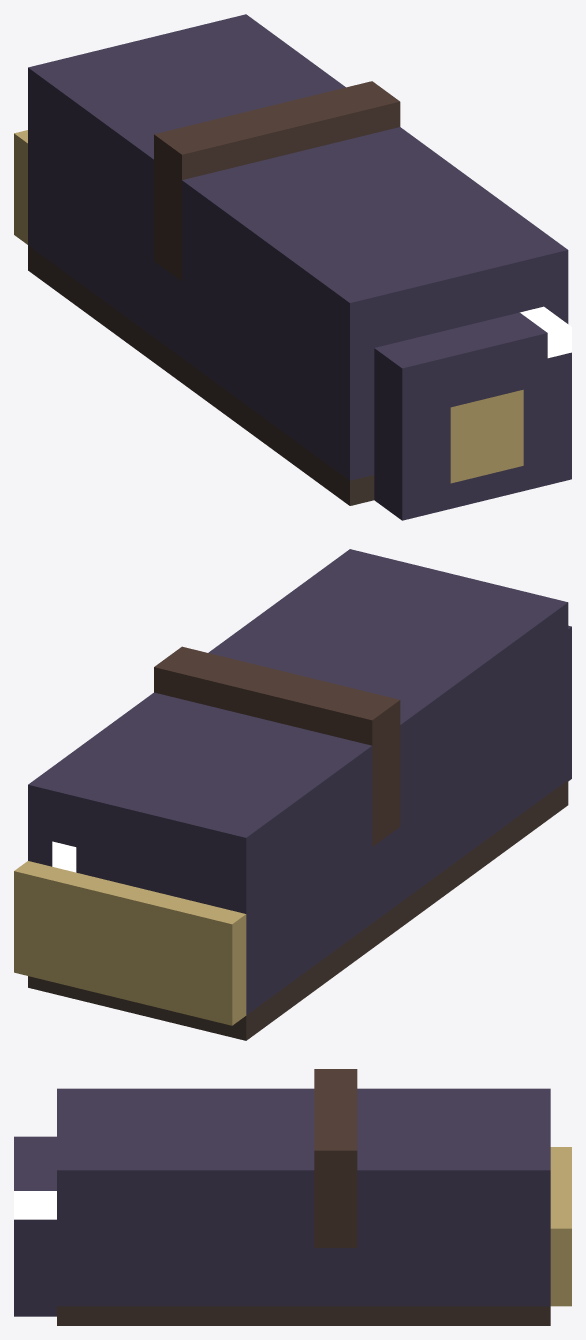
File: mystic_legendary_boot_foot_L.glb
The picture shows the model from 3 angles, top to bottom: view 1: azimuth 30°, elevation 25°; view 2: azimuth 150°, elevation 25°; view 3: azimuth 270°, elevation 25°; orthographic projection. The views are drawn at different scales.
Visible parts, largest first — view 1: mystic_legendary_boot_foot_L; view 2: mystic_legendary_boot_foot_L; view 3: mystic_legendary_boot_foot_L.
Part boxes in pixels (x1,y1,x2,y2): mystic_legendary_boot_foot_L: [14, 14, 571, 520]; mystic_legendary_boot_foot_L: [14, 549, 571, 1040]; mystic_legendary_boot_foot_L: [14, 1069, 571, 1325].
Bounding box in the file's own units: 0.108 × 0.108 × 0.312.
